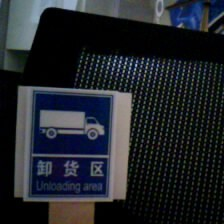unload: (23, 79, 120, 199)
